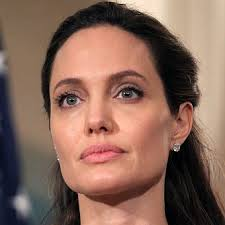n.sharp: (84, 93, 111, 134)
